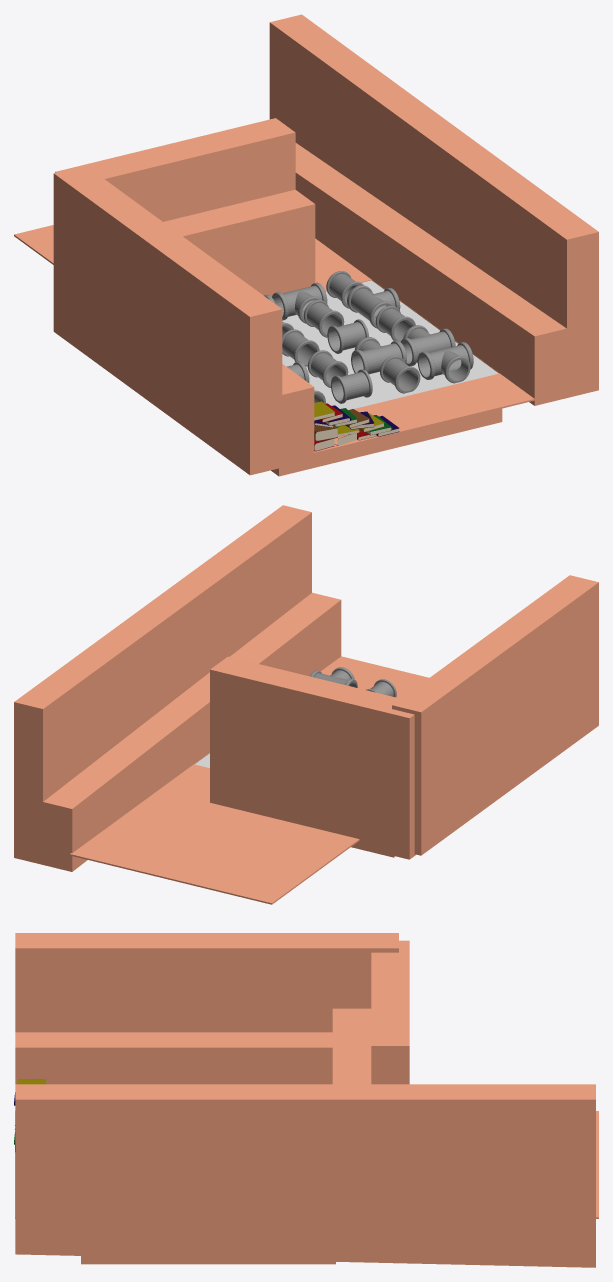
The model's file is Stage_2_Com Valvulas.fbx.
3 views of the same model, one above another, from view 1: azimuth 30°, elevation 25°; view 2: azimuth 150°, elevation 25°; view 3: azimuth 270°, elevation 25° (orthographic). The views are drawn at different scales.
Visible parts, largest first — view 1: Cube.011, Cube.010, Cube.009, Cube.008, Plane.001, Cube.025, Cylinder.020, Cylinder.003, Cylinder.008, Cylinder.005, Cylinder.012, Cylinder.019 (+7 smaller); view 2: Cube.011, Cube.010, Cube.009, Cube.008, Cylinder.020; view 3: Cube.011, Cube.010, Cube.009, Cube.008.
Boxes of the visible parts, left/top/right/bottom form: Cube.011: left=269, top=14, right=598, bottom=405; Cube.010: left=53, top=165, right=314, bottom=475; Cube.009: left=55, top=118, right=315, bottom=296; Cube.008: left=14, top=225, right=535, bottom=476; Plane.001: left=282, top=280, right=498, bottom=409; Cube.025: left=314, top=403, right=399, bottom=451; Cylinder.020: left=417, top=342, right=473, bottom=383; Cylinder.003: left=351, top=337, right=406, bottom=374; Cylinder.008: left=401, top=325, right=455, bottom=366; Cylinder.005: left=347, top=285, right=400, bottom=328; Cylinder.012: left=272, top=282, right=327, bottom=323; Cylinder.019: left=380, top=355, right=420, bottom=393; Cube.011: left=14, top=505, right=341, bottom=871; Cube.010: left=392, top=575, right=598, bottom=855; Cube.009: left=210, top=656, right=415, bottom=859; Cube.008: left=70, top=656, right=429, bottom=904; Cylinder.020: left=310, top=667, right=357, bottom=687; Cube.011: left=15, top=1084, right=595, bottom=1267; Cube.010: left=15, top=933, right=398, bottom=1084; Cube.009: left=332, top=940, right=409, bottom=1084; Cube.008: left=15, top=1111, right=598, bottom=1264.
Size of the model in its own units: 6174 by 3371 by 9170.
